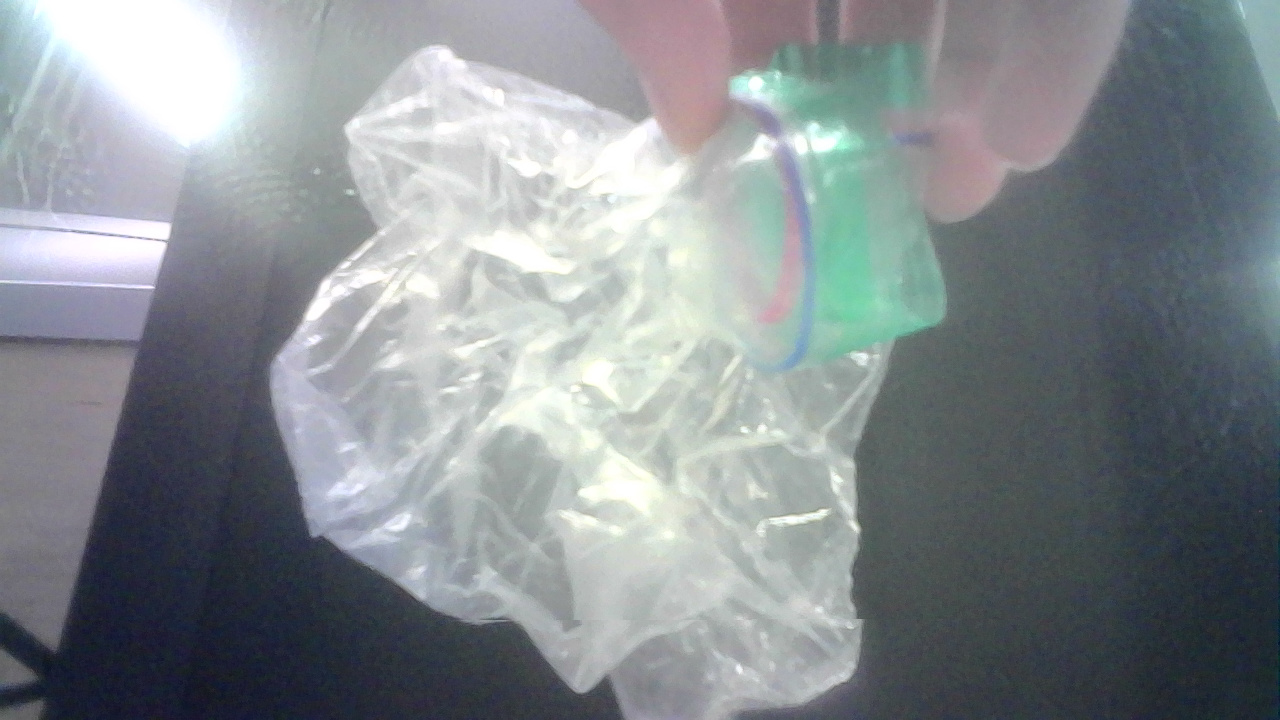Plastic_Recycling: (261, 41, 957, 720)
